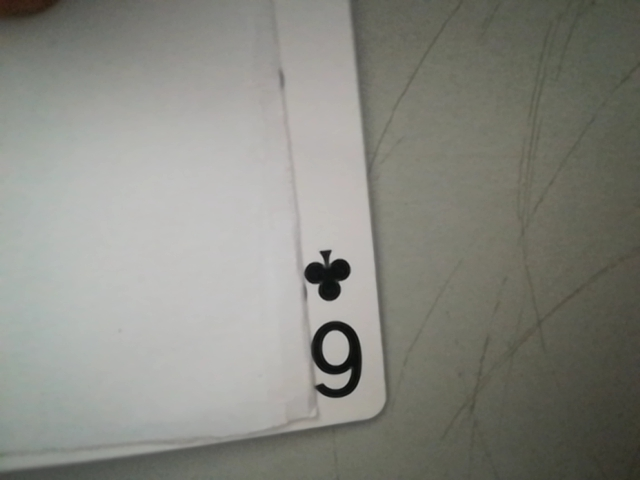mh 6: (293, 238, 379, 412)
